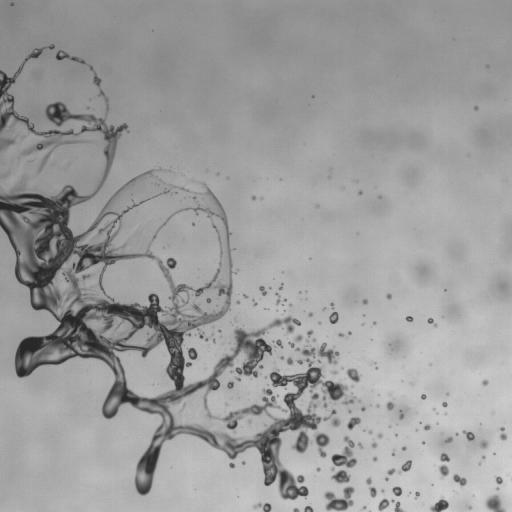droplet: (484, 494, 506, 511), (0, 133, 19, 151), (429, 495, 449, 511), (346, 367, 361, 382), (347, 416, 361, 431), (452, 474, 466, 488), (437, 463, 449, 479), (462, 430, 474, 441), (43, 49, 54, 60), (6, 84, 17, 95), (107, 116, 118, 127), (62, 118, 73, 129), (70, 119, 81, 130), (14, 139, 25, 150), (113, 146, 124, 157), (0, 184, 11, 195), (42, 187, 53, 198), (96, 192, 107, 203), (67, 205, 78, 216), (66, 219, 77, 230), (413, 314, 424, 325), (200, 322, 211, 333), (274, 325, 285, 336), (37, 326, 48, 337), (281, 345, 292, 356), (336, 354, 347, 365), (259, 365, 270, 376), (198, 369, 209, 380), (320, 370, 331, 381), (217, 372, 228, 383), (104, 373, 115, 384), (182, 374, 193, 385), (332, 398, 343, 409), (232, 399, 243, 410), (151, 413, 162, 424), (316, 422, 327, 433), (348, 428, 359, 439), (279, 429, 290, 440), (286, 429, 297, 440), (173, 432, 184, 443), (360, 434, 371, 445), (160, 439, 171, 450), (306, 440, 317, 451), (136, 443, 147, 454), (324, 444, 335, 455), (362, 446, 373, 457), (249, 447, 260, 458), (350, 447, 361, 458), (215, 449, 226, 460), (276, 451, 287, 462), (155, 455, 166, 466), (391, 457, 402, 468), (279, 459, 290, 470), (389, 474, 400, 485), (484, 486, 495, 497), (294, 495, 305, 506), (329, 311, 338, 324), (392, 486, 403, 496), (0, 127, 10, 138), (440, 452, 450, 462), (13, 104, 22, 113), (67, 105, 76, 114), (46, 120, 55, 129), (16, 121, 25, 130), (94, 130, 103, 139), (173, 176, 182, 185), (189, 182, 198, 191), (75, 186, 84, 195), (266, 292, 275, 301), (213, 318, 222, 327), (293, 325, 302, 334), (10, 340, 19, 349), (298, 364, 307, 373), (181, 367, 190, 376), (122, 401, 131, 410), (390, 407, 399, 416), (351, 408, 360, 417), (340, 415, 349, 424), (383, 428, 392, 437), (236, 451, 245, 460), (254, 459, 263, 468), (289, 468, 298, 477), (334, 490, 343, 499), (385, 490, 394, 499), (374, 492, 383, 501), (286, 356, 294, 365), (369, 361, 378, 369), (480, 440, 488, 449), (423, 424, 433, 431), (505, 426, 511, 437), (315, 505, 326, 511), (383, 505, 394, 511), (421, 505, 432, 511), (444, 436, 453, 443), (304, 504, 313, 511), (227, 381, 234, 389), (49, 48, 56, 55), (87, 121, 94, 128), (37, 135, 44, 142), (57, 144, 64, 151), (40, 147, 47, 154), (99, 154, 106, 161), (111, 157, 118, 164), (109, 164, 116, 171), (157, 171, 164, 178), (25, 186, 32, 193), (86, 218, 93, 225), (71, 229, 78, 236), (22, 285, 29, 292), (230, 286, 237, 293), (266, 289, 273, 296), (229, 294, 236, 301), (39, 308, 46, 315), (223, 311, 230, 318), (278, 312, 285, 319), (311, 314, 318, 321), (267, 315, 274, 322), (243, 326, 250, 333), (190, 327, 197, 334), (287, 332, 294, 339), (181, 350, 188, 357), (216, 352, 223, 359), (182, 353, 189, 360), (320, 355, 327, 362), (88, 356, 95, 363), (212, 356, 219, 363), (345, 362, 352, 369), (36, 364, 43, 371), (239, 373, 246, 380), (20, 375, 27, 382), (319, 375, 326, 382), (331, 376, 338, 383), (182, 379, 189, 386), (102, 387, 109, 394), (257, 399, 264, 406), (244, 400, 251, 407), (379, 401, 386, 408), (436, 414, 443, 421), (277, 431, 284, 438), (473, 436, 480, 443), (321, 444, 328, 451), (210, 446, 217, 453), (481, 447, 488, 454), (336, 448, 343, 455), (370, 448, 377, 455), (395, 448, 402, 455), (325, 451, 332, 458), (339, 463, 346, 470), (394, 463, 401, 470), (434, 470, 441, 477), (258, 472, 265, 479), (446, 472, 453, 479), (150, 481, 157, 488), (340, 481, 347, 488), (129, 484, 136, 491), (149, 484, 156, 491), (349, 492, 356, 499), (499, 501, 506, 508), (405, 316, 413, 322), (357, 441, 363, 449), (344, 506, 353, 511), (482, 379, 488, 386), (229, 461, 235, 468), (330, 370, 338, 375), (414, 491, 419, 499), (362, 299, 368, 305), (287, 302, 293, 308), (377, 432, 383, 438), (0, 164, 4, 173), (278, 283, 283, 290), (242, 293, 249, 298), (386, 293, 391, 299), (421, 393, 426, 399), (330, 302, 334, 309), (256, 507, 263, 511), (372, 507, 379, 511), (486, 507, 493, 511), (473, 105, 478, 110), (251, 195, 256, 200), (308, 312, 313, 317), (442, 402, 447, 407), (360, 406, 365, 411), (372, 456, 377, 461), (45, 41, 50, 46), (26, 49, 31, 54), (68, 51, 73, 56), (78, 54, 83, 59), (51, 55, 56, 60), (29, 56, 34, 61), (62, 57, 67, 62), (17, 59, 22, 64), (72, 60, 77, 65), (6, 72, 11, 77), (96, 73, 101, 78), (88, 75, 93, 80), (14, 77, 19, 82), (99, 81, 104, 86), (91, 83, 96, 88), (6, 88, 11, 93), (98, 95, 103, 100), (50, 98, 55, 103), (107, 99, 112, 104), (40, 108, 45, 113), (86, 109, 91, 114), (94, 113, 99, 118), (28, 118, 33, 123), (82, 120, 87, 125), (33, 125, 38, 130), (54, 125, 59, 130), (120, 129, 125, 134), (82, 130, 87, 135), (28, 131, 33, 136), (74, 135, 79, 140), (15, 137, 20, 142), (75, 142, 80, 147), (8, 143, 13, 148), (63, 143, 68, 148), (46, 157, 51, 162), (44, 161, 49, 166), (161, 164, 166, 169), (139, 168, 144, 173), (178, 181, 183, 186), (115, 184, 120, 189), (201, 187, 206, 192), (210, 187, 215, 192), (361, 187, 366, 192), (250, 190, 255, 195), (213, 191, 218, 196), (93, 193, 98, 198), (216, 195, 221, 200), (246, 195, 251, 200), (254, 197, 259, 202), (222, 205, 227, 210), (226, 220, 231, 225), (84, 224, 89, 229), (227, 226, 232, 231), (6, 242, 11, 247), (228, 243, 233, 248), (9, 247, 14, 252), (229, 250, 234, 255), (11, 259, 16, 264), (10, 264, 15, 269), (231, 266, 236, 271), (10, 271, 15, 276), (11, 275, 16, 280), (263, 286, 268, 291), (386, 288, 391, 293), (256, 289, 261, 294), (277, 289, 282, 294), (300, 292, 305, 297), (381, 293, 386, 298), (390, 293, 395, 298), (361, 294, 366, 299), (238, 295, 243, 300), (272, 295, 277, 300), (246, 297, 251, 302), (367, 298, 372, 303), (357, 299, 362, 304), (363, 303, 368, 308), (27, 304, 32, 309), (277, 304, 282, 309), (283, 304, 288, 309), (305, 307, 310, 312), (327, 309, 332, 314), (291, 313, 296, 318), (296, 315, 301, 320), (360, 316, 365, 321), (405, 320, 410, 325), (334, 321, 339, 326), (292, 323, 297, 328), (198, 324, 203, 329), (342, 329, 347, 334), (214, 331, 219, 336), (302, 333, 307, 338), (309, 333, 314, 338), (338, 336, 343, 341), (207, 338, 212, 343), (264, 339, 269, 344), (281, 340, 286, 345), (194, 346, 199, 351), (227, 350, 232, 355), (283, 354, 288, 359), (74, 355, 79, 360), (65, 358, 70, 363), (190, 358, 195, 363), (281, 358, 286, 363), (257, 360, 262, 365), (292, 360, 297, 365), (311, 362, 316, 367), (49, 363, 54, 368), (55, 363, 60, 368), (225, 365, 230, 370), (11, 369, 16, 374), (108, 369, 113, 374), (356, 369, 361, 374), (278, 370, 283, 375), (482, 374, 487, 379), (358, 375, 363, 380), (478, 376, 483, 381), (233, 379, 238, 384), (267, 379, 272, 384), (485, 383, 490, 388), (209, 389, 214, 394), (338, 396, 343, 401), (386, 396, 391, 401), (391, 399, 396, 404), (206, 400, 211, 405), (347, 402, 352, 407), (358, 402, 363, 407), (97, 409, 102, 414), (142, 410, 147, 415), (210, 410, 215, 415), (114, 412, 119, 417), (99, 414, 104, 419), (326, 418, 331, 423), (421, 420, 426, 425), (352, 424, 357, 429), (425, 429, 430, 434), (497, 429, 502, 434), (502, 429, 507, 434), (371, 432, 376, 437), (450, 432, 455, 437), (148, 433, 153, 438), (382, 433, 387, 438), (461, 433, 466, 438), (442, 434, 447, 439), (452, 435, 457, 440), (374, 437, 379, 442), (199, 438, 204, 443), (352, 438, 357, 443), (501, 439, 506, 444), (343, 441, 348, 446), (447, 441, 452, 446), (446, 452, 451, 457), (435, 453, 440, 458), (476, 455, 481, 460), (367, 456, 372, 461), (230, 458, 235, 463), (400, 459, 405, 464), (328, 460, 333, 465), (442, 460, 447, 465), (481, 460, 486, 465), (410, 462, 415, 467), (387, 464, 392, 469), (401, 470, 406, 475), (392, 471, 397, 476), (302, 473, 307, 478), (458, 473, 463, 478), (387, 474, 392, 479), (500, 474, 505, 479), (361, 477, 366, 482), (330, 478, 335, 483), (465, 479, 470, 484), (394, 481, 399, 486), (454, 481, 459, 486), (492, 481, 497, 486), (369, 482, 374, 487), (462, 484, 467, 489), (306, 485, 311, 490), (400, 486, 405, 491), (375, 487, 380, 492), (307, 488, 312, 493), (365, 489, 370, 494), (400, 491, 405, 496), (296, 494, 301, 499), (394, 495, 399, 500), (444, 496, 449, 501), (285, 497, 290, 502), (434, 497, 439, 502), (253, 499, 258, 504), (260, 499, 265, 504), (310, 503, 315, 508), (380, 489, 384, 495), (358, 190, 362, 195), (236, 299, 240, 304), (322, 307, 327, 311), (372, 321, 377, 325), (225, 402, 229, 407), (347, 408, 351, 413), (401, 446, 406, 450), (241, 460, 245, 465), (316, 467, 321, 471), (384, 476, 388, 481), (467, 505, 472, 509), (21, 134, 25, 138), (317, 321, 321, 325), (445, 392, 449, 396), (375, 403, 379, 407), (269, 508, 274, 511), (288, 508, 293, 511), (299, 508, 304, 511), (330, 508, 335, 511), (362, 508, 367, 511), (440, 508, 445, 511), (464, 508, 469, 511), (260, 196, 263, 200), (316, 204, 319, 208), (192, 222, 195, 226), (298, 290, 301, 294), (361, 322, 364, 326), (428, 363, 432, 366), (340, 366, 344, 369), (443, 412, 447, 415), (388, 425, 392, 428), (455, 432, 458, 436), (421, 441, 425, 444), (7, 0, 12, 2), (0, 74, 2, 79), (0, 96, 2, 101), (0, 226, 2, 231), (10, 2, 13, 5), (486, 64, 489, 67), (311, 95, 314, 98), (86, 106, 89, 109), (216, 172, 219, 175), (226, 176, 229, 179), (378, 195, 381, 198), (211, 325, 214, 328), (436, 422, 439, 425), (492, 452, 495, 455), (13, 2, 16, 5), (10, 5, 13, 8), (36, 45, 39, 48), (37, 54, 40, 57), (21, 57, 24, 60), (57, 59, 60, 62), (70, 59, 73, 62), (84, 59, 87, 62), (79, 62, 82, 65), (22, 65, 25, 68), (15, 66, 18, 69), (86, 66, 89, 69), (92, 66, 95, 69), (102, 89, 105, 92), (96, 90, 99, 93), (308, 94, 311, 97), (314, 94, 317, 97), (13, 97, 16, 100), (311, 97, 314, 100), (474, 102, 477, 105), (103, 104, 106, 107), (108, 104, 111, 107), (477, 105, 480, 108), (470, 106, 473, 109), (126, 122, 129, 125), (126, 126, 129, 129), (44, 128, 47, 131), (154, 166, 157, 169), (166, 166, 169, 169), (170, 167, 173, 170), (144, 168, 147, 171), (170, 172, 173, 175), (127, 177, 130, 180), (183, 185, 186, 188), (355, 189, 358, 192), (358, 194, 361, 197), (255, 195, 258, 198), (228, 234, 231, 237), (236, 271, 239, 274), (231, 272, 234, 275), (280, 279, 283, 282), (277, 283, 280, 286), (282, 284, 285, 287), (443, 285, 446, 288), (440, 288, 443, 291), (446, 288, 449, 291), (295, 290, 298, 293), (301, 290, 304, 293), (245, 292, 248, 295), (264, 293, 267, 296), (254, 298, 257, 301), (273, 300, 276, 303), (332, 300, 335, 303), (250, 301, 253, 304), (282, 301, 285, 304), (255, 304, 258, 307), (263, 304, 266, 307), (320, 305, 323, 308), (333, 308, 336, 311), (264, 309, 267, 312), (362, 310, 365, 313), (312, 312, 315, 315), (405, 313, 408, 316), (409, 313, 412, 316), (310, 315, 313, 318), (337, 315, 340, 318), (425, 316, 428, 319), (371, 318, 374, 321), (424, 319, 427, 322), (327, 320, 330, 323), (300, 322, 303, 325), (369, 322, 372, 325), (363, 323, 366, 326), (436, 323, 439, 326), (372, 324, 375, 327), (220, 327, 223, 330), (349, 328, 352, 331), (348, 334, 351, 337), (214, 338, 217, 341), (323, 339, 326, 342), (287, 344, 290, 347), (196, 353, 199, 356), (373, 358, 376, 361), (375, 363, 378, 366), (372, 364, 375, 367), (376, 368, 379, 371), (269, 369, 272, 372), (235, 372, 238, 375), (217, 386, 220, 389), (264, 386, 267, 389), (229, 387, 232, 390), (418, 393, 421, 396), (425, 393, 428, 396), (420, 398, 423, 401), (423, 398, 426, 401), (442, 398, 445, 401), (439, 400, 442, 403), (446, 401, 449, 404), (372, 403, 375, 406), (446, 404, 449, 407), (443, 406, 446, 409), (375, 407, 378, 410), (364, 408, 367, 411), (401, 410, 404, 413), (432, 410, 435, 413), (397, 411, 400, 414), (403, 414, 406, 417), (416, 419, 419, 422), (438, 420, 441, 423), (499, 424, 502, 427), (367, 426, 370, 429), (412, 427, 415, 430), (465, 429, 468, 432), (364, 430, 367, 433), (394, 430, 397, 433), (471, 430, 474, 433), (391, 433, 394, 436), (397, 433, 400, 436), (470, 439, 473, 442), (418, 440, 421, 443), (424, 440, 427, 443), (360, 441, 363, 444), (401, 443, 404, 446), (420, 443, 423, 446), (400, 449, 403, 452), (393, 450, 396, 453), (388, 451, 391, 454), (495, 451, 498, 454), (492, 454, 495, 457), (391, 455, 394, 458), (376, 456, 379, 459), (407, 457, 410, 460), (484, 457, 487, 460), (374, 460, 377, 463), (226, 464, 229, 467), (242, 464, 245, 467), (315, 464, 318, 467), (230, 467, 233, 470), (313, 468, 316, 471), (319, 469, 322, 472), (316, 471, 319, 474), (496, 473, 499, 476), (382, 479, 385, 482), (430, 480, 433, 483), (433, 483, 436, 486), (415, 488, 418, 491), (419, 492, 422, 495), (412, 493, 415, 496), (417, 495, 420, 498), (267, 500, 270, 503), (362, 502, 365, 505), (468, 502, 471, 505), (162, 247, 165, 249), (308, 257, 311, 259), (281, 271, 284, 273), (269, 286, 271, 289), (444, 288, 446, 291), (216, 304, 219, 306), (362, 314, 365, 316), (401, 379, 403, 382), (415, 429, 418, 431), (395, 433, 397, 436), (472, 494, 474, 497), (312, 509, 315, 511), (469, 509, 472, 511), (280, 178, 282, 180), (305, 290, 307, 292), (305, 298, 307, 300), (276, 309, 278, 311), (388, 343, 390, 345), (419, 421, 421, 423), (431, 484, 433, 486), (371, 338, 372, 340), (479, 423, 481, 424)
ligament: (330, 435, 357, 483), (386, 460, 411, 475), (378, 498, 406, 511), (366, 477, 377, 497), (386, 391, 395, 410), (252, 502, 271, 511), (499, 426, 507, 441), (62, 161, 72, 171), (427, 317, 437, 327), (338, 331, 351, 338), (281, 309, 295, 315), (259, 285, 266, 295), (362, 427, 372, 434), (478, 455, 485, 465), (398, 409, 404, 420), (371, 438, 377, 449), (217, 329, 223, 338), (0, 172, 8, 178), (252, 297, 257, 306), (432, 407, 438, 414), (391, 448, 395, 456), (292, 507, 300, 511), (361, 505, 366, 511), (277, 355, 284, 359), (406, 491, 411, 496), (409, 382, 416, 385), (234, 317, 237, 322), (263, 308, 269, 309), (368, 510, 371, 511)
